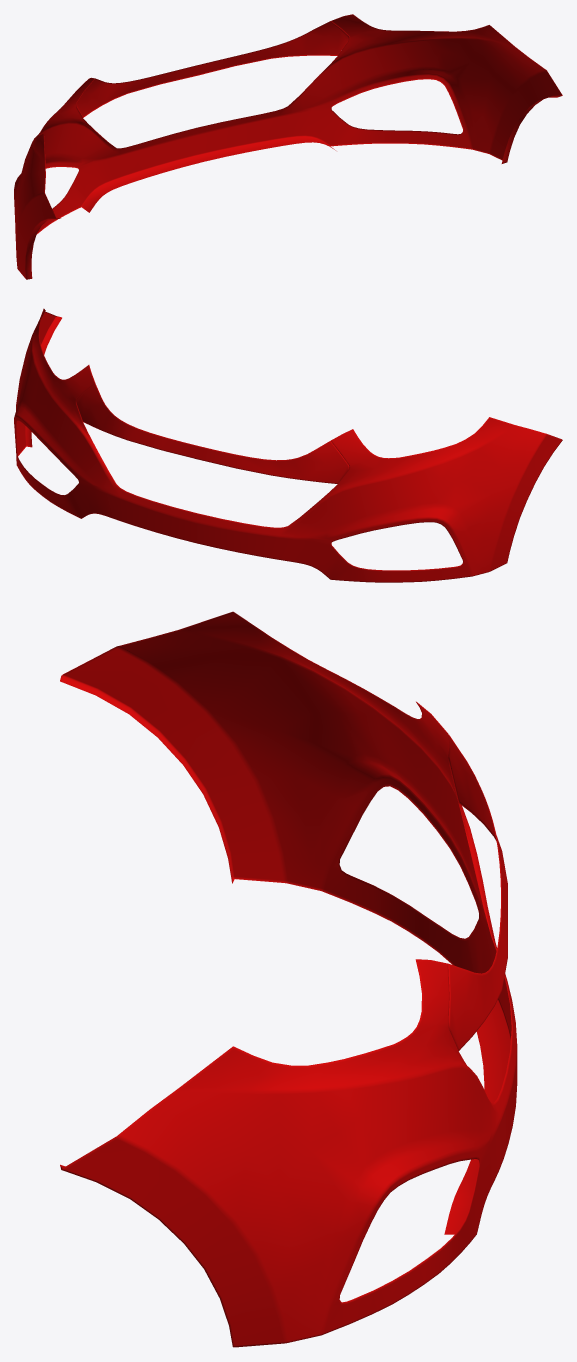
File: MUV Bumper.fbx
3 views of the same model, one above another, from view 1: azimuth 30°, elevation 25°; view 2: azimuth 150°, elevation 25°; view 3: azimuth 270°, elevation 25° (orthographic). The views are drawn at different scales.
Parts seen in each view (by area): view 1: cc1.003; view 2: cc1.003; view 3: cc1.003.
Boxes of the visible parts, bbox=[...] form: cc1.003: bbox=[14, 14, 562, 279]; cc1.003: bbox=[14, 308, 562, 582]; cc1.003: bbox=[60, 611, 517, 1347].
Size of the model in its own units: 238 by 63.78 by 92.95.
